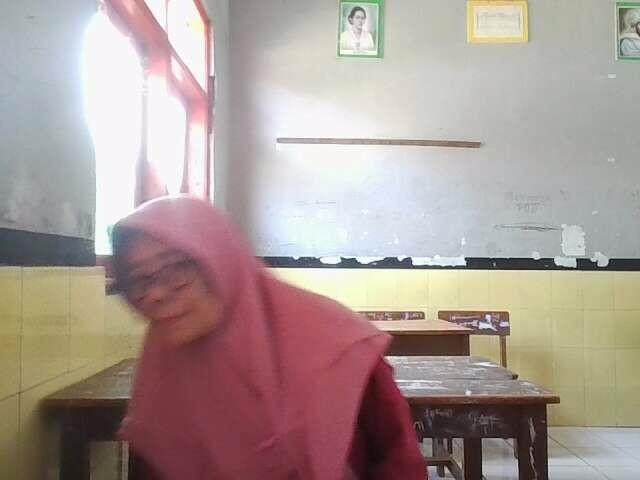cheating: (76, 180, 327, 388)
